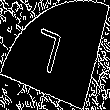L_S: (36, 26, 74, 84)
